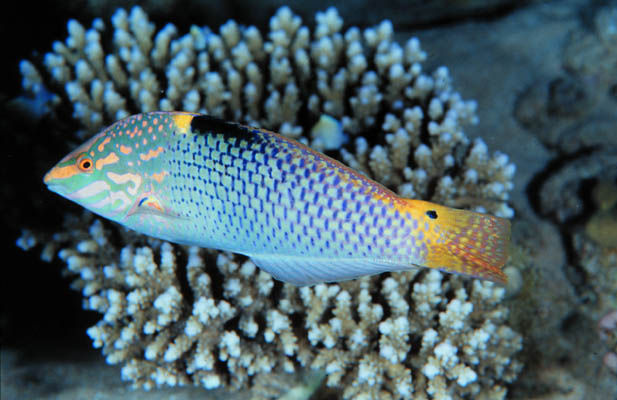fish: (44, 111, 514, 287)
